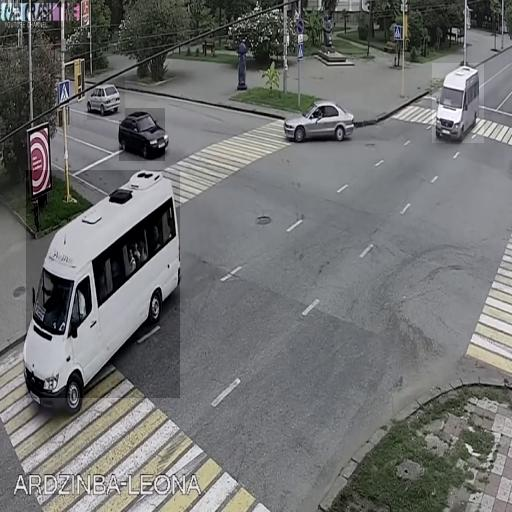小汽车: (26, 170, 180, 398), (432, 63, 484, 143), (284, 102, 356, 144), (119, 108, 165, 161), (87, 75, 125, 120)
